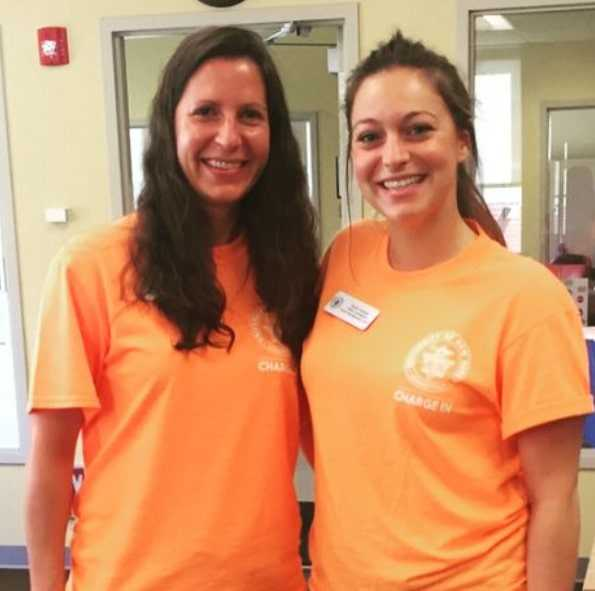Staff: (70, 7, 316, 355), (329, 8, 526, 361)
